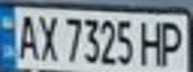2: (97, 16, 118, 66)
3: (78, 15, 100, 65)
5: (115, 16, 139, 66)
7: (60, 12, 84, 63)
A: (12, 10, 42, 61)
H: (136, 17, 166, 68)
P: (157, 17, 187, 68)
X: (33, 11, 60, 62)
